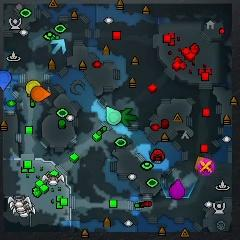Other: (196, 158, 215, 175)
p1: (0, 70, 12, 92)
p2: (106, 107, 122, 125)
p3: (169, 179, 186, 199)
p4: (26, 80, 41, 94)
p5: (31, 86, 50, 102)
x3: (50, 39, 67, 55)
x4: (121, 108, 137, 126)
x5: (194, 156, 205, 171)
